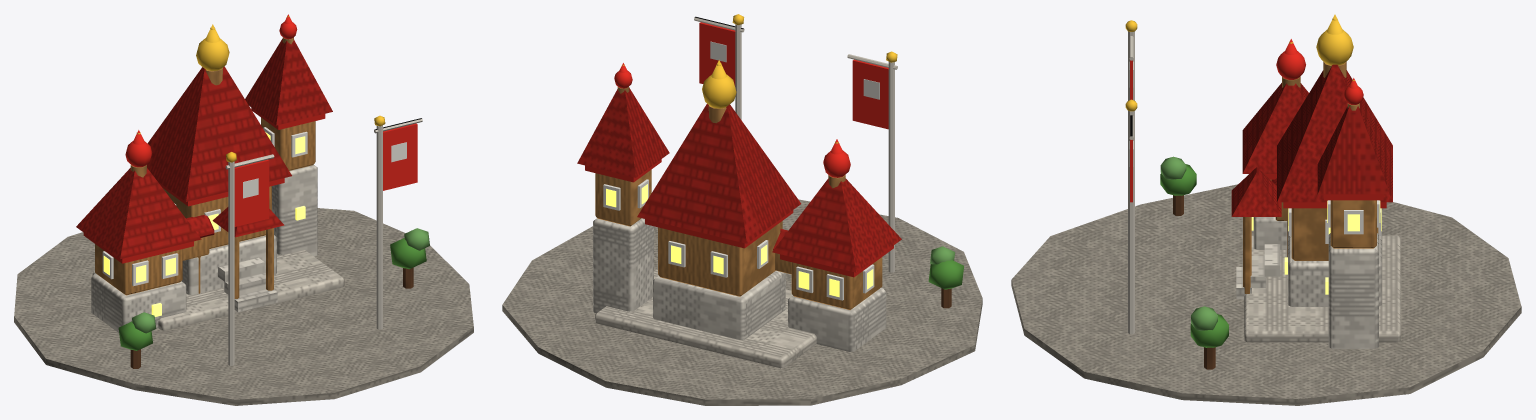
The model's file is residence_dl3_red.glb.
3 renders of one model, left to right at view 1: azimuth 30°, elevation 25°; view 2: azimuth 150°, elevation 25°; view 3: azimuth 270°, elevation 25°, orthographic. The views are drawn at different scales.
Parts seen in each view (by area): view 1: residence_dl3_red; view 2: residence_dl3_red; view 3: residence_dl3_red.
Part boxes in pixels (box(x1,y1,x2,y2)): residence_dl3_red: box(14, 14, 473, 405); residence_dl3_red: box(502, 14, 982, 405); residence_dl3_red: box(1011, 14, 1521, 405).
Bounding box in the file's own units: 1.64 × 1.01 × 1.63.
2 materials, 1 textured.
